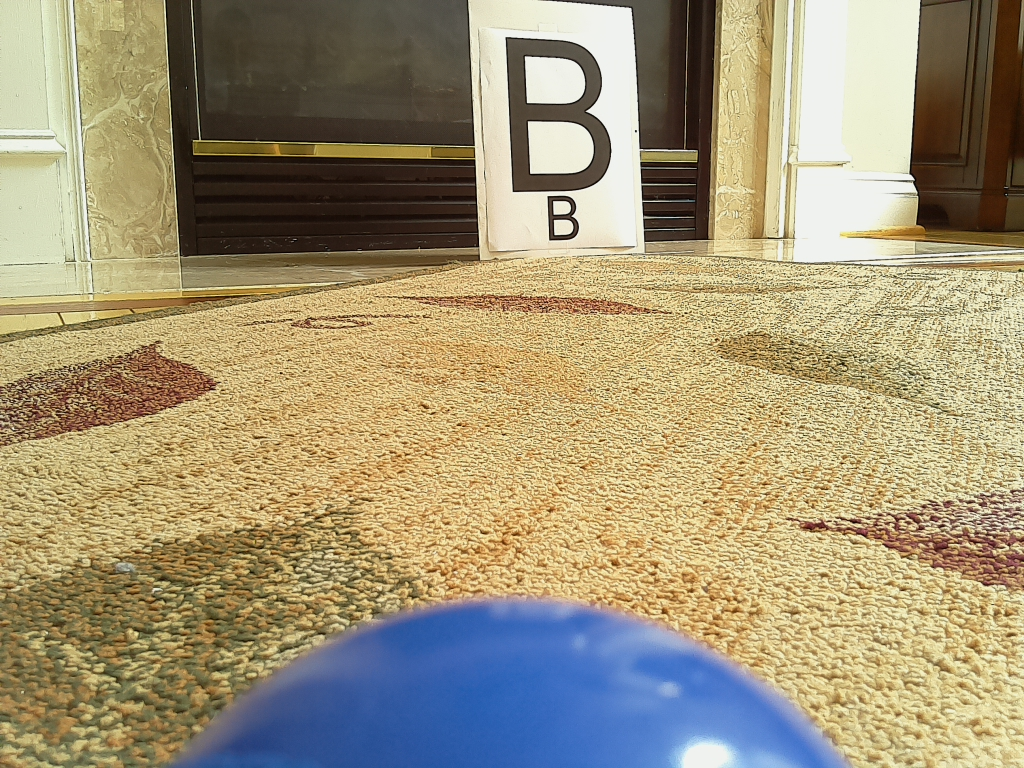letter: (504, 34, 613, 192)
